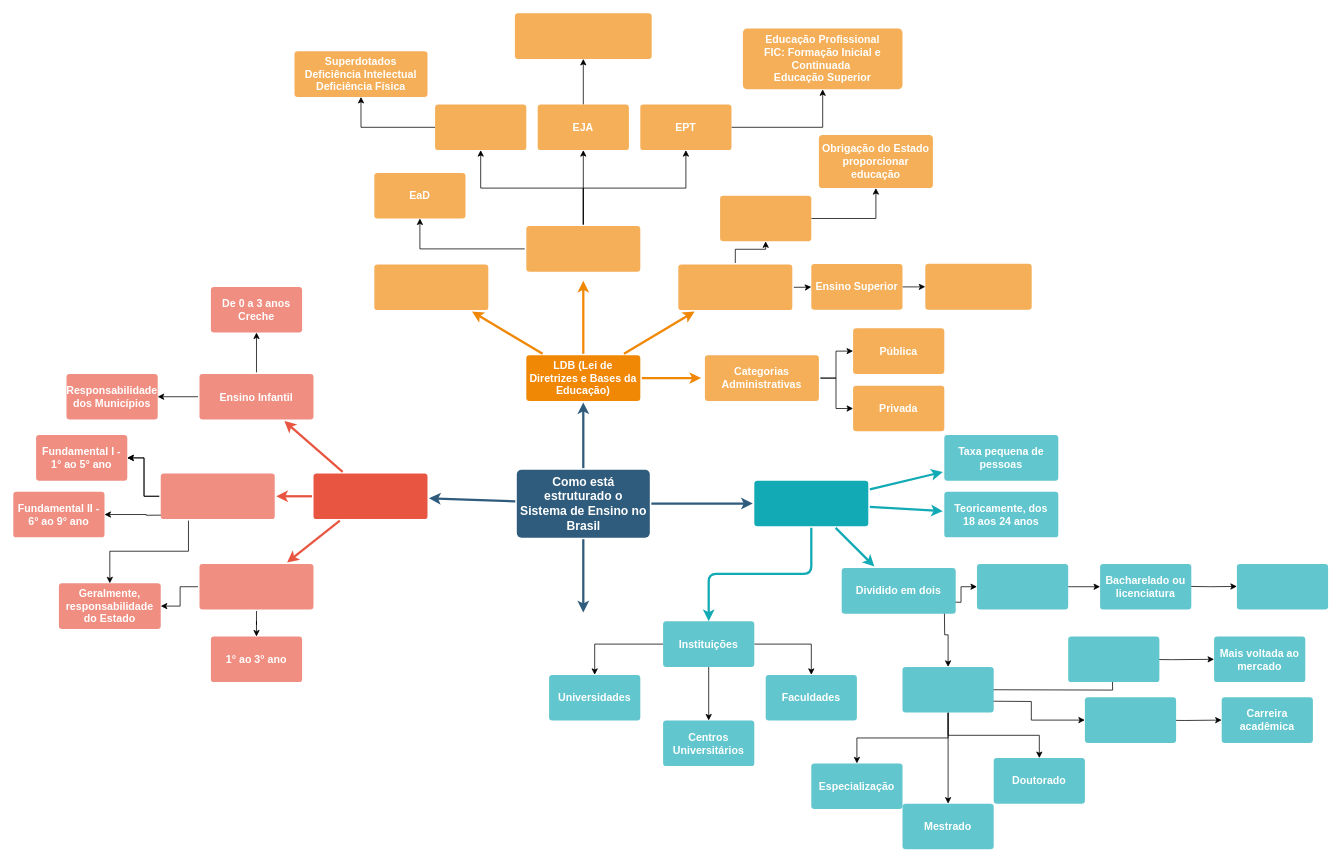
The diagram is 1341 pixels wide and 862 high, and some of its shapes have lost their labels. The shapes that lost their labels are listed below. From the top down, each one's box as (x1, y1, x2, y2) in pixels, then its label:
(515, 13, 651, 59): Pessoas que não estudaram na idade regular
(435, 104, 526, 150): Educação Especial
(720, 195, 811, 241): Ensino Básico
(526, 226, 640, 271): Modalidades
(374, 264, 488, 310): Lei 9.394/1996
(678, 264, 792, 310): Estabelece dois níveis
(925, 263, 1031, 309): Não é obrigação do Estado fornece-lo
(160, 473, 274, 519): Ensino Fundamental (I e II)
(313, 473, 427, 519): Educação Básica
(754, 480, 868, 526): Educação Superior
(199, 564, 313, 609): Ensino Médio
(977, 564, 1068, 609): Graduação
(1237, 564, 1328, 609): Duração de 4 a 5 anos
(1068, 636, 1159, 682): Lato sensu
(902, 667, 993, 712): Pós-graduação
(1085, 697, 1176, 743): Strictu sensu
